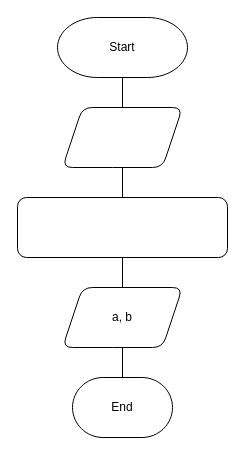
This 245x455 diagram has some shape labels left out. Each missing label, with the centre of its shape:
a = Pow(Abs(Sin(x)-Cos(y)), 1/3) b = Cos(Sin(a*a)): (122,227)
x, y: (122,137)
